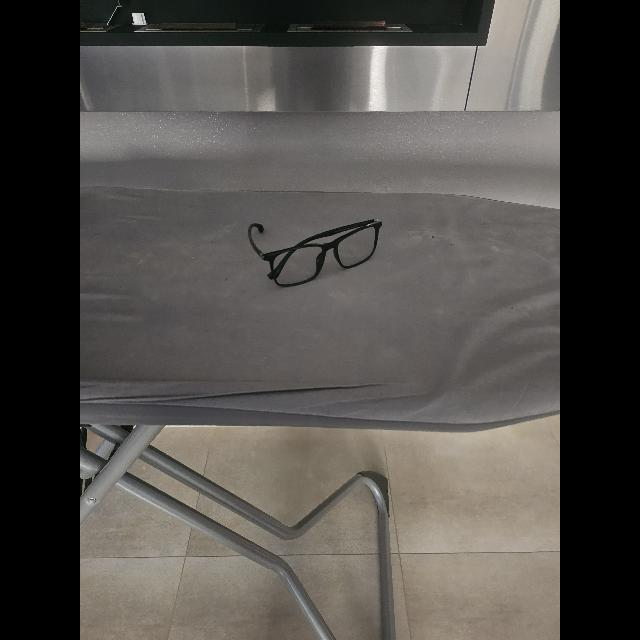glasses: (248, 220, 382, 286)
